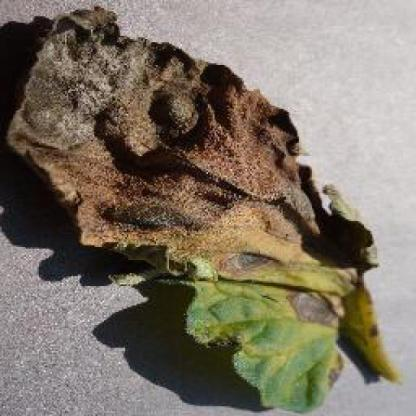Tomato_Blight: (22, 15, 395, 414)
